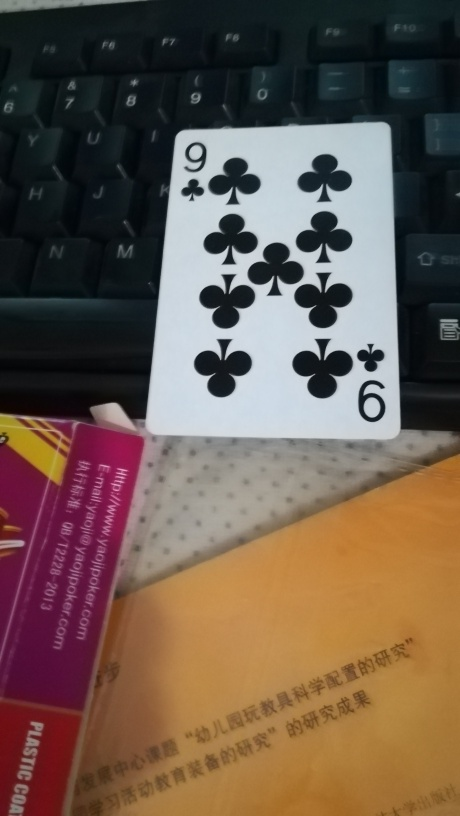mh 9: (141, 121, 403, 443)
